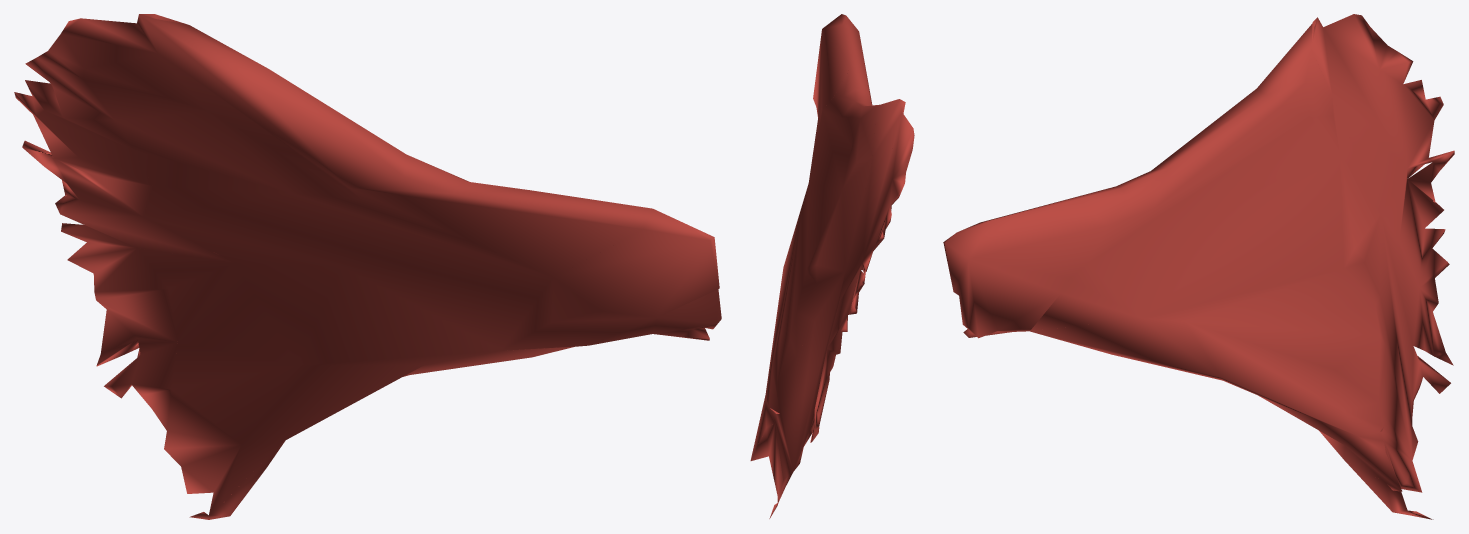
Rendered from musculos-risorius-muscle-r.glb.
3 renders of one model, left to right at view 1: azimuth 30°, elevation 25°; view 2: azimuth 150°, elevation 25°; view 3: azimuth 270°, elevation 25°, orthographic. The views are drawn at different scales.
Visible parts, largest first — view 1: Risorius muscle.r; view 2: Risorius muscle.r; view 3: Risorius muscle.r.
Boxes of the visible parts, x1,y1,x2,y2 form: Risorius muscle.r: [14, 14, 721, 519]; Risorius muscle.r: [750, 14, 914, 518]; Risorius muscle.r: [943, 14, 1454, 519].
Bounding box in the file's own units: 0.0196 × 0.0269 × 0.0274.
